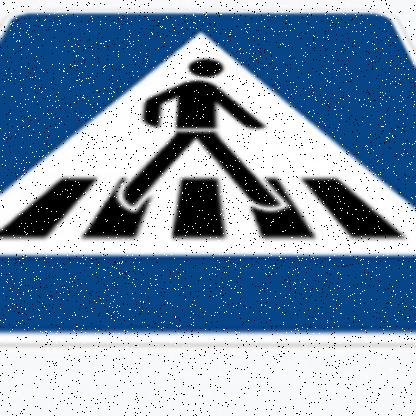Pedestrian Crossing: (1, 8, 416, 350)
